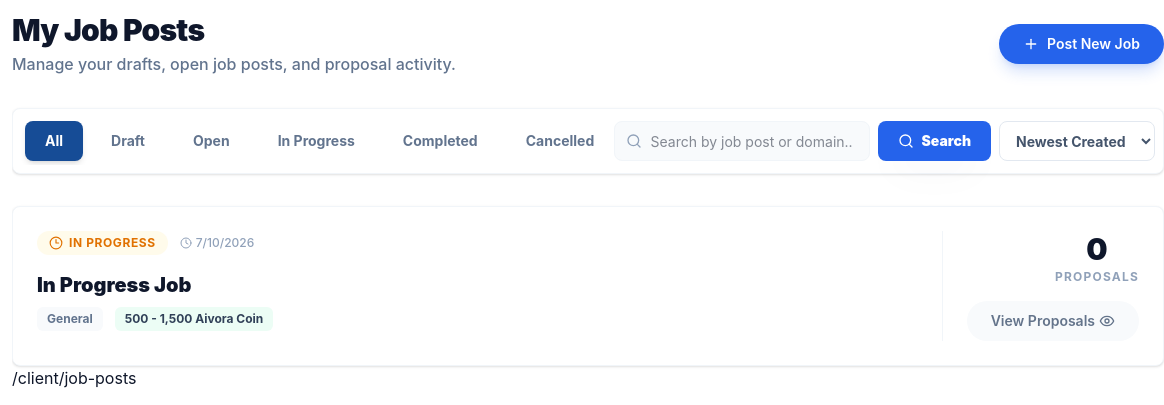
Scenario: MyJobPostsPage › Title navigation › navigates to the proposal list for an in-progress job post
The image size is (1164, 405).
Click the link "In Progress Job" at x=114, y=285, box [37,271,191,299]
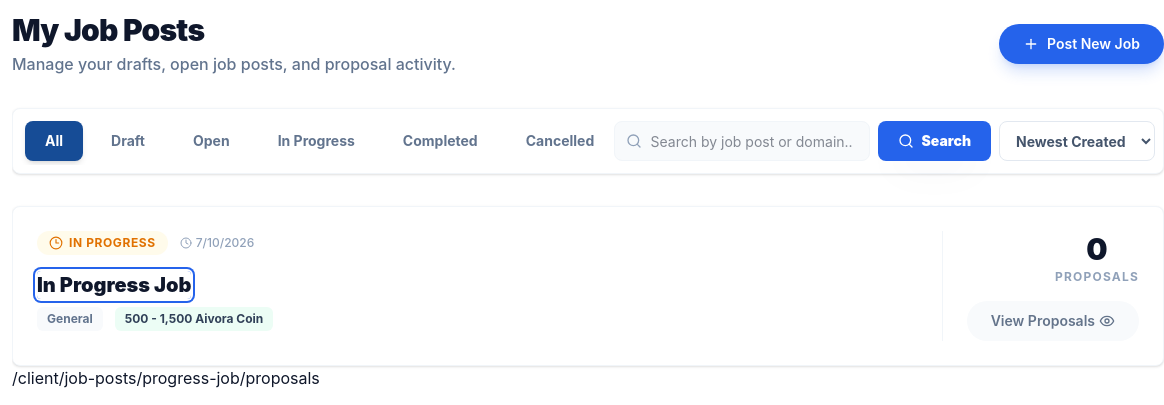
Check: the text named "current path" reads "/client/job-posts/progress-job/proposals", box [12,368,320,388]
